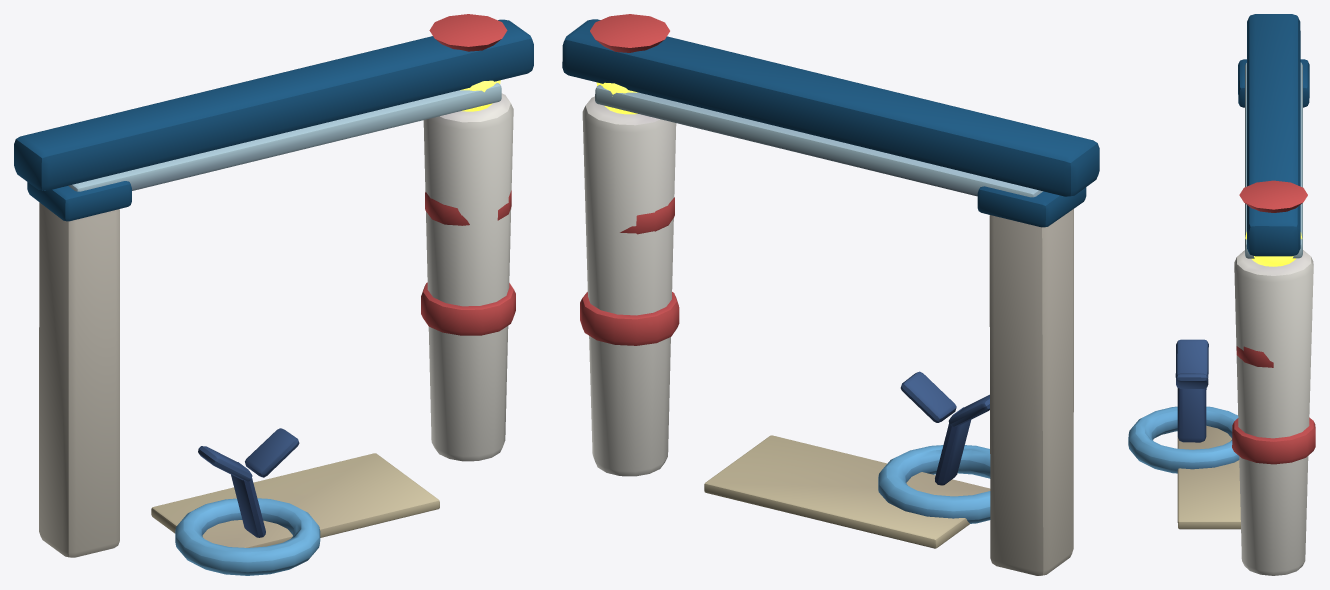
3 renders of one model, left to right at view 1: azimuth 30°, elevation 25°; view 2: azimuth 150°, elevation 25°; view 3: azimuth 270°, elevation 25°, orthographic. The views are drawn at different scales.
Parts seen in each view (by area): view 1: gate_81bd7e46; view 2: gate_81bd7e46; view 3: gate_81bd7e46.
Part boxes in pixels (bbox=[...]): gate_81bd7e46: bbox=[14, 14, 533, 575]; gate_81bd7e46: bbox=[562, 14, 1099, 575]; gate_81bd7e46: bbox=[1128, 14, 1315, 575].
Size of the model in its own units: 5.29 by 4.27 by 1.95.
